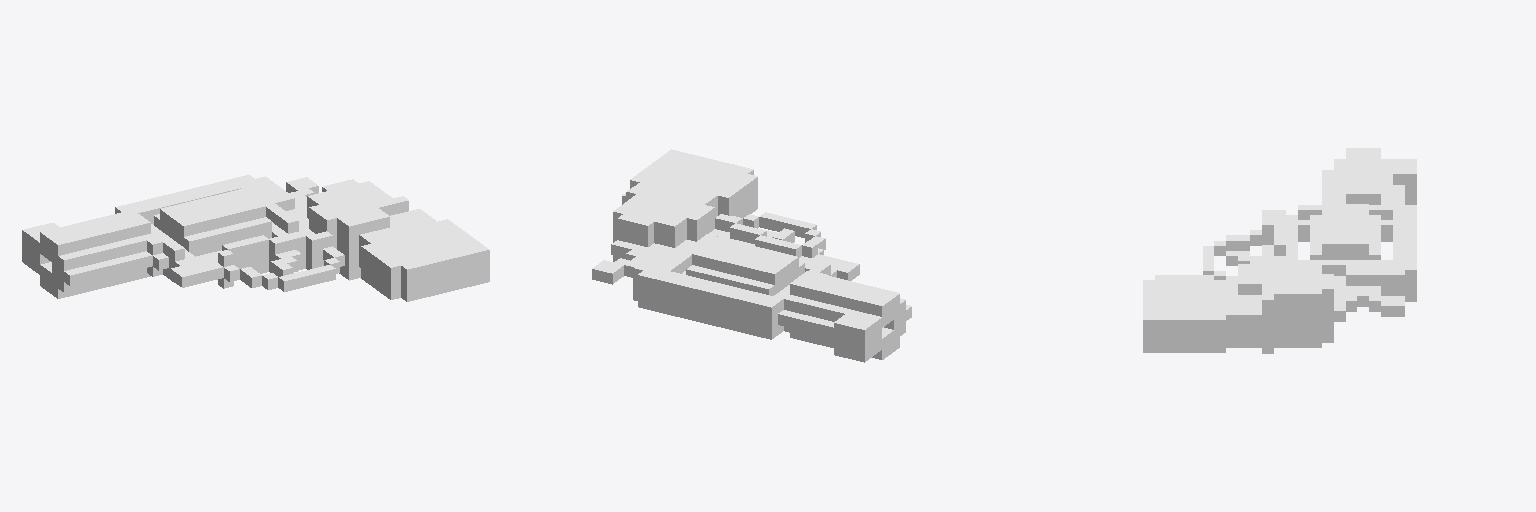
Rendered from gun_1.obj.
3 views of the same model, side by side, from view 1: azimuth 30°, elevation 25°; view 2: azimuth 150°, elevation 25°; view 3: azimuth 270°, elevation 25° (orthographic).
Visible parts, largest first — view 1: object 1; view 2: object 1; view 3: object 1.
Boxes of the visible parts, x1=… form: object 1: x1=22, y1=175, x2=489, y2=301; object 1: x1=592, y1=149, x2=911, y2=362; object 1: x1=1143, y1=148, x2=1416, y2=353.
Bounding box in the file's own units: 3.2 × 0.5 × 2.3.